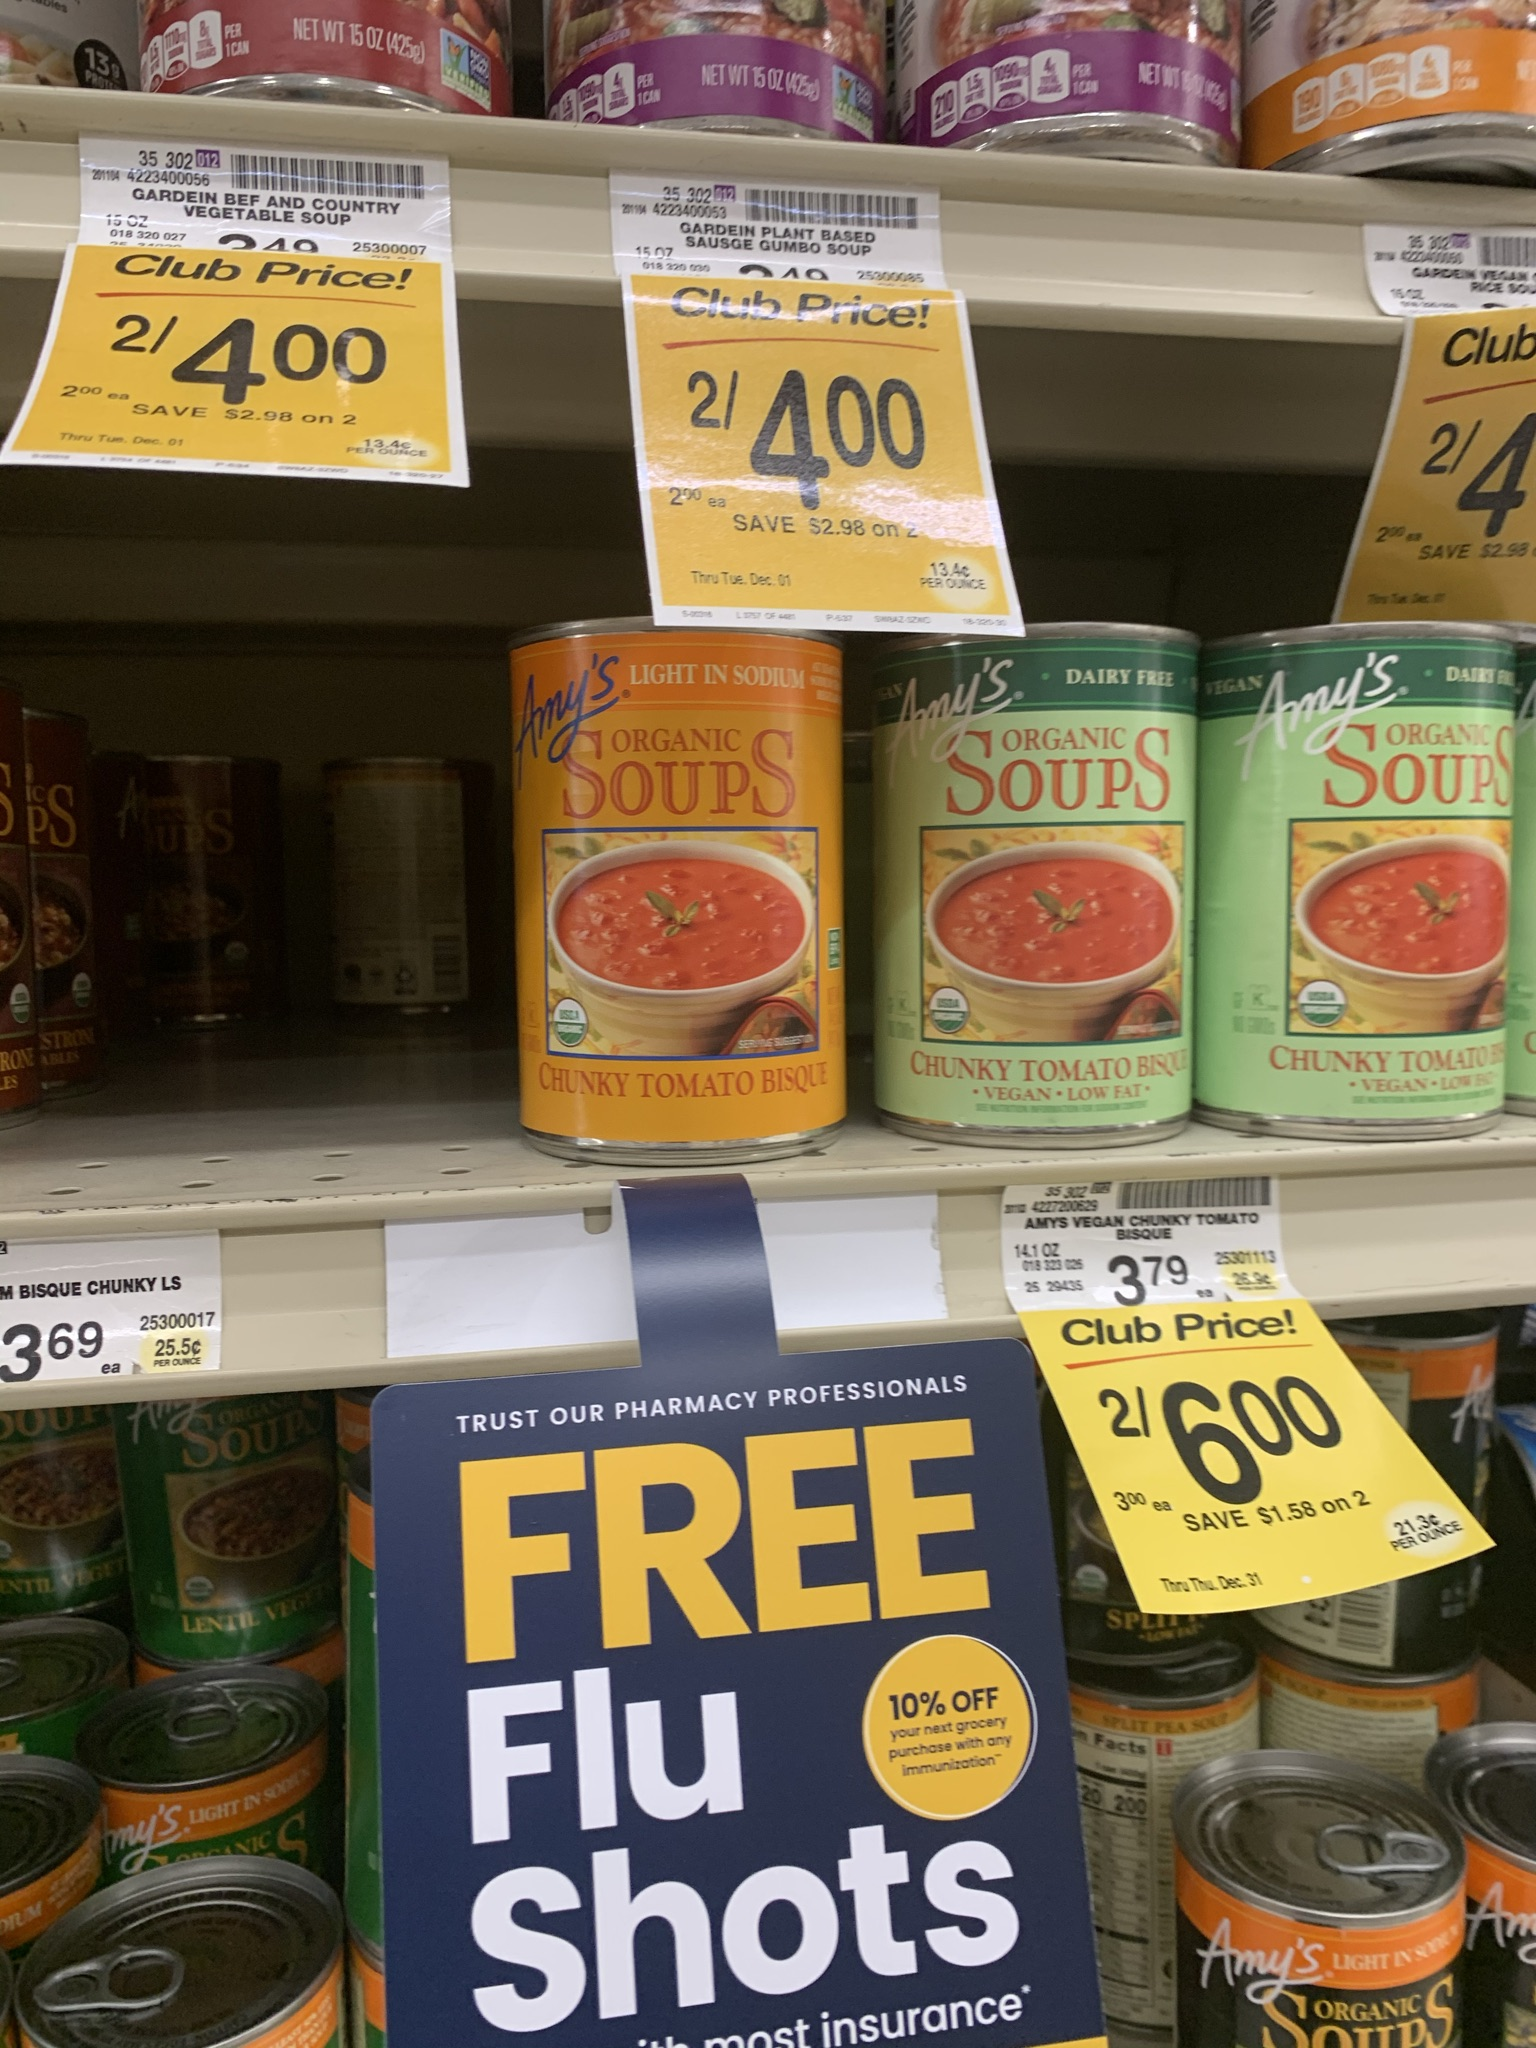can: (508, 613, 852, 1158), (873, 619, 1204, 1147), (1207, 626, 1520, 1140), (124, 1409, 315, 1659), (344, 780, 471, 1014), (139, 777, 260, 1022)
